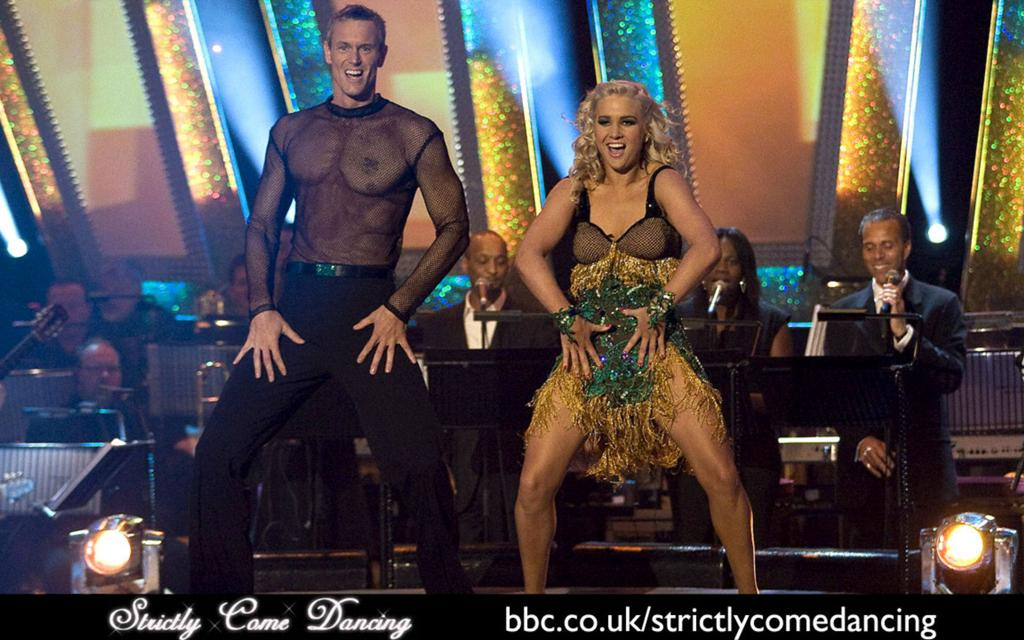face: (593, 95, 644, 169), (330, 20, 380, 94), (863, 222, 903, 285), (47, 287, 88, 342), (706, 240, 742, 298), (467, 241, 506, 293), (97, 274, 136, 321), (83, 350, 119, 400), (234, 268, 267, 313)
